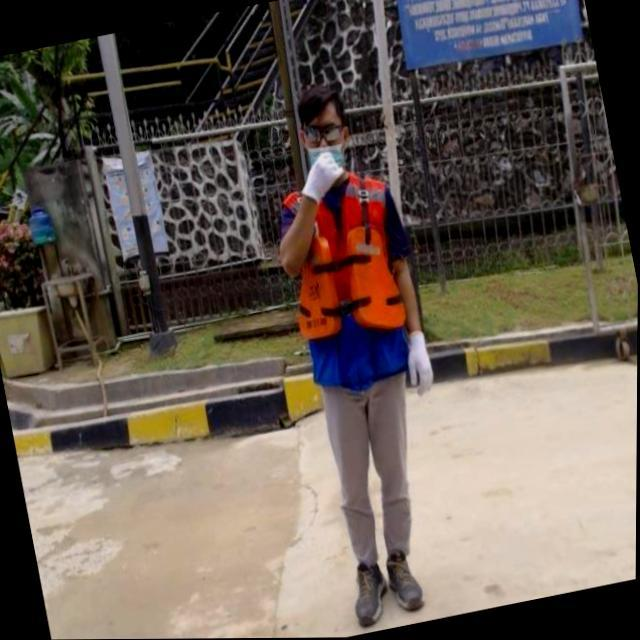goggles_on: (288, 115, 352, 152)
